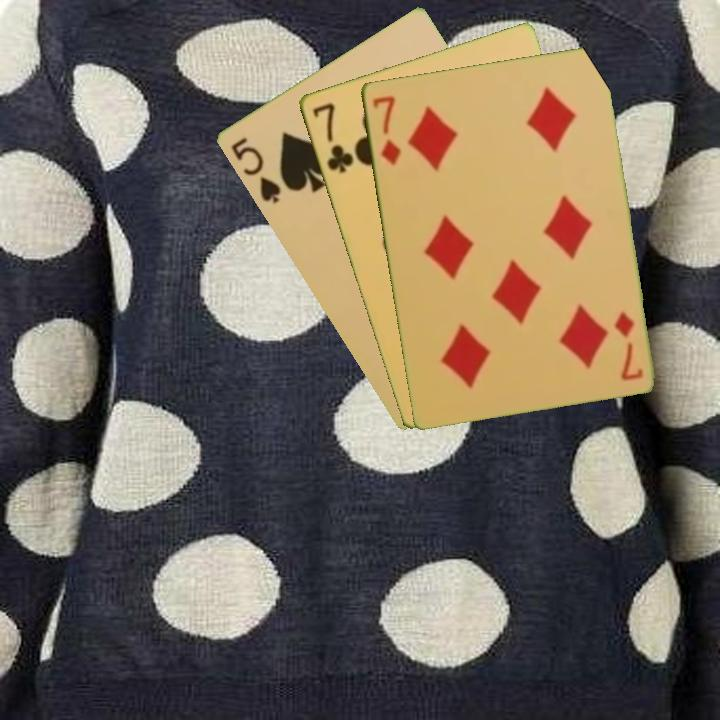5s: (227, 133, 283, 206)
7c: (308, 99, 356, 176)
7d: (610, 308, 646, 383), (369, 92, 403, 168)
